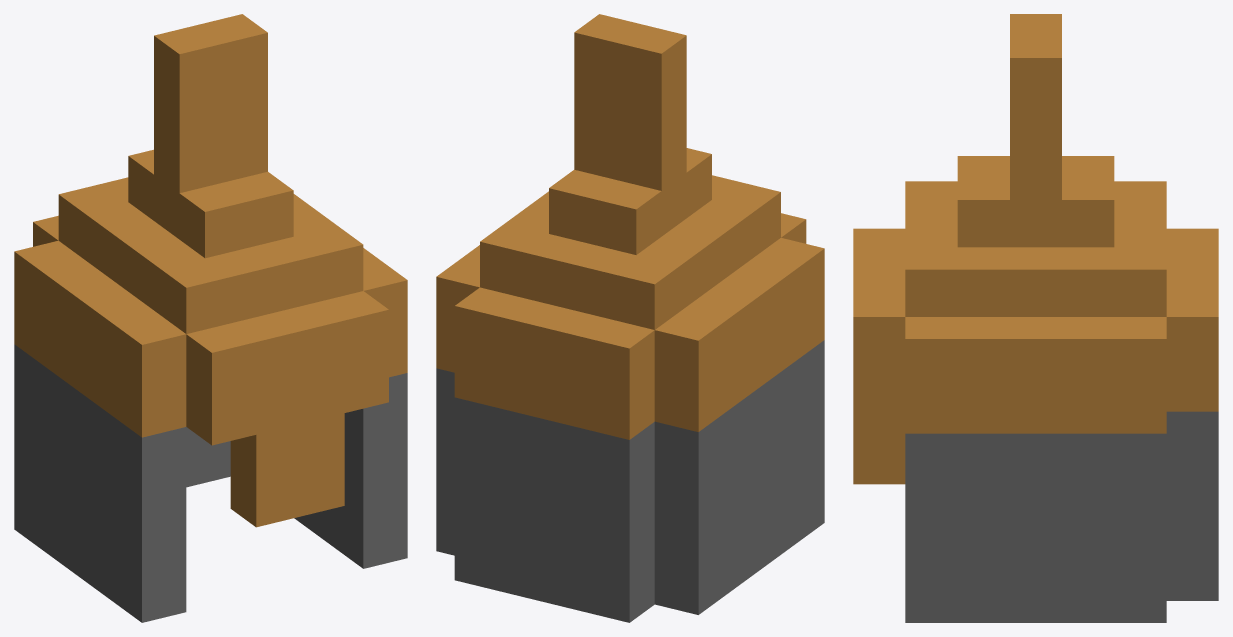
File: characters_export_red-158-helm_med_2e_sh.obj
3 renders of one model, left to right at view 1: azimuth 30°, elevation 25°; view 2: azimuth 150°, elevation 25°; view 3: azimuth 270°, elevation 25°, orthographic. The views are drawn at different scales.
Visible parts, largest first — view 1: helm_med_2e_sh; view 2: helm_med_2e_sh; view 3: helm_med_2e_sh.
Part boxes in pixels (x1,y1,x2,y2): helm_med_2e_sh: [14, 14, 407, 622]; helm_med_2e_sh: [436, 14, 824, 622]; helm_med_2e_sh: [853, 14, 1218, 622].
Bounding box in the file's own units: 0.6 × 1.1 × 0.7.
Materials: 1 (1 with a texture image).
